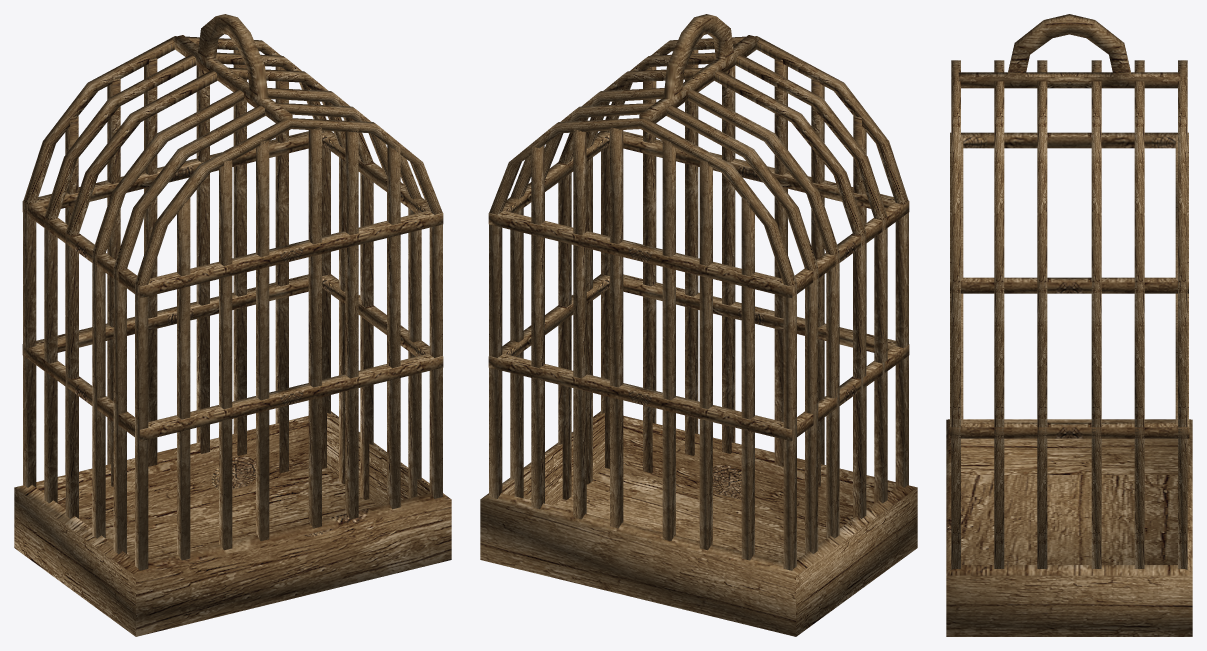
Rendered from birdcage.dae.
3 renders of one model, left to right at view 1: azimuth 30°, elevation 25°; view 2: azimuth 150°, elevation 25°; view 3: azimuth 270°, elevation 25°, orthographic.
Visible parts, largest first — view 1: meshU3D; view 2: meshU3D; view 3: meshU3D.
Part boxes in pixels (<box>): meshU3D: <box>14,14,451,636</box>; meshU3D: <box>480,14,917,636</box>; meshU3D: <box>946,14,1192,636</box>.
Bounding box in the file's own units: 1.08 × 1.75 × 0.72.
